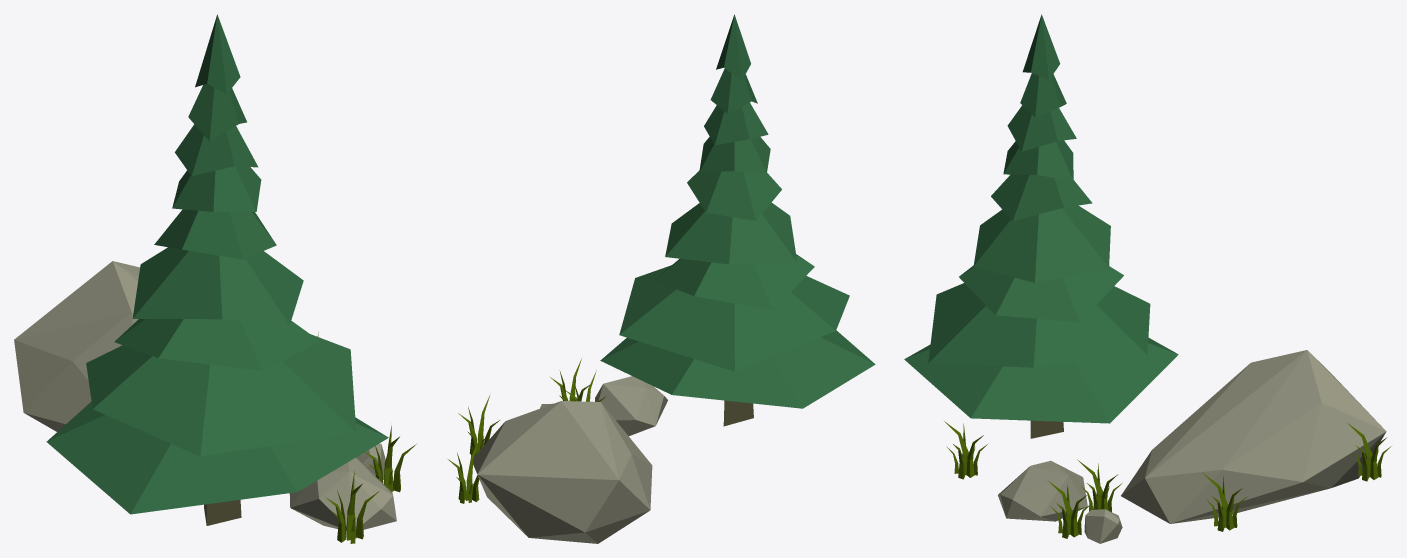
The model's file is Decor.gltf.
3 renders of one model, left to right at view 1: azimuth 30°, elevation 25°; view 2: azimuth 150°, elevation 25°; view 3: azimuth 270°, elevation 25°, orthographic. The views are drawn at different scales.
Visible parts, largest first — view 1: pine tree, stone_lg, stone_med, Cylinder.000, Cylinder.006; view 2: pine tree, stone_lg, stone_med, Cylinder.003, Cylinder.001; view 3: pine tree, stone_lg, stone_med, stone_sml, Cylinder.000, Cylinder.006, Cylinder.001, Cylinder.003, Cylinder.002.
Part boxes in pixels (<box>): pine tree: <box>46,14,388,525</box>; stone_lg: <box>14,261,139,431</box>; stone_med: <box>289,457,396,530</box>; Cylinder.000: <box>326,471,379,543</box>; Cylinder.006: <box>365,425,416,493</box>; pine tree: <box>600,14,875,426</box>; stone_lg: <box>473,401,652,543</box>; stone_med: <box>595,376,667,435</box>; Cylinder.003: <box>448,440,479,503</box>; Cylinder.001: <box>458,395,499,456</box>; pine tree: <box>904,14,1178,438</box>; stone_lg: <box>1121,350,1386,523</box>; stone_med: <box>998,460,1087,521</box>; stone_sml: <box>1084,509,1122,543</box>; Cylinder.000: <box>944,421,987,479</box>; Cylinder.006: <box>1047,480,1091,538</box>; Cylinder.001: <box>1203,473,1247,531</box>; Cylinder.003: <box>1347,423,1391,481</box>; Cylinder.002: <box>1077,459,1122,511</box>.
Size of the model in its own units: 3.49 by 5.03 by 4.93.
